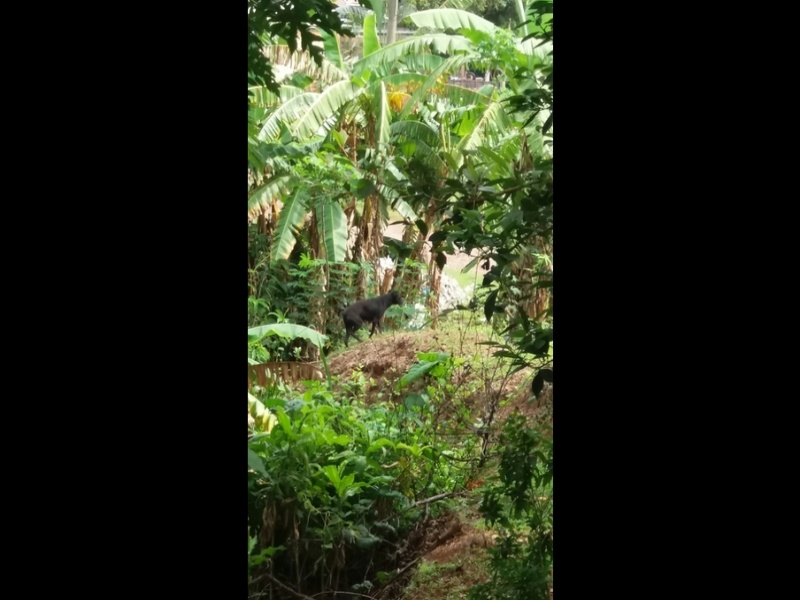dog: (330, 289, 403, 348)
